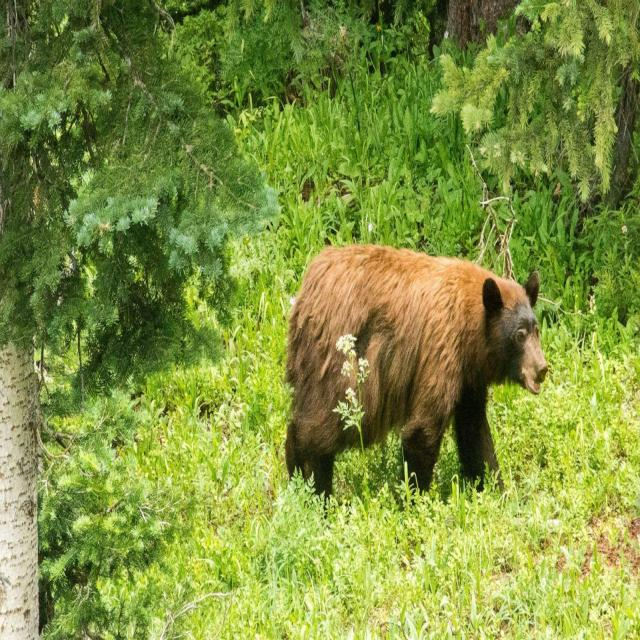Bear: (284, 245, 548, 498)
